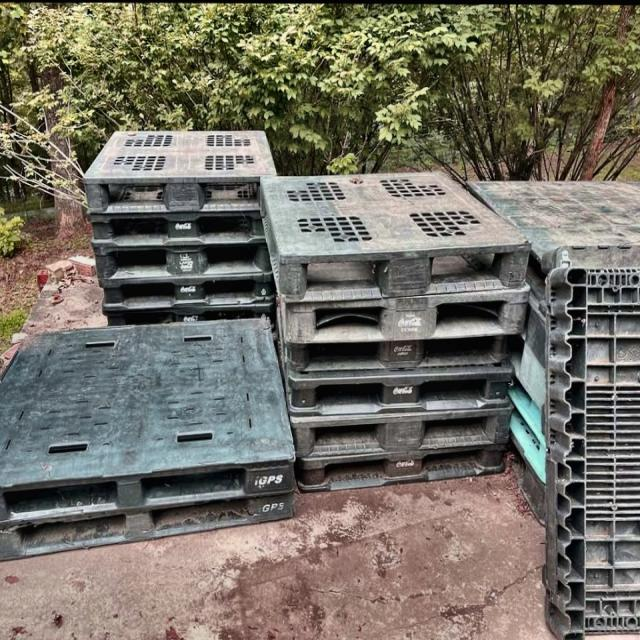igps: (0, 306, 299, 570)
non-igps: (256, 162, 535, 499), (75, 113, 280, 332), (537, 258, 640, 640), (463, 176, 640, 244)
